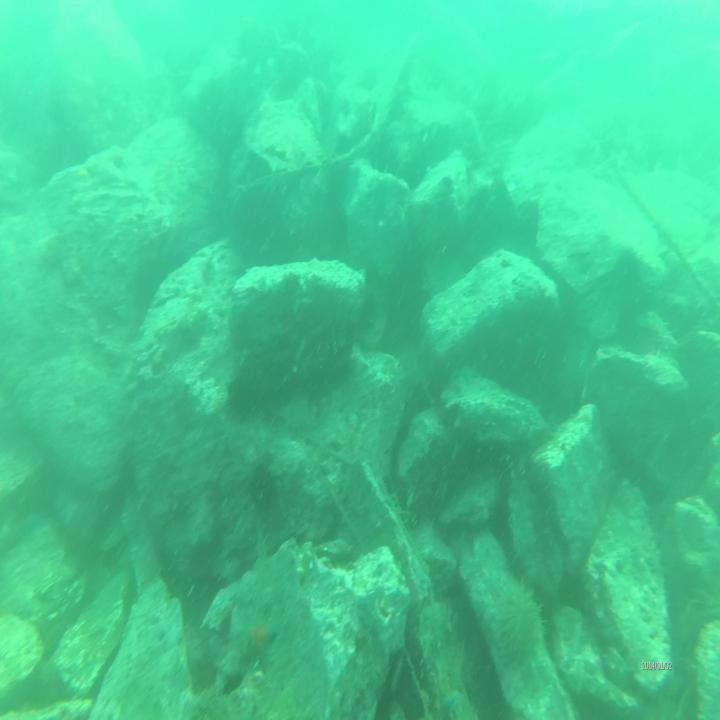echinus: (489, 585, 542, 660), (244, 462, 277, 509), (228, 378, 258, 427)
starfish: (238, 608, 278, 665)
